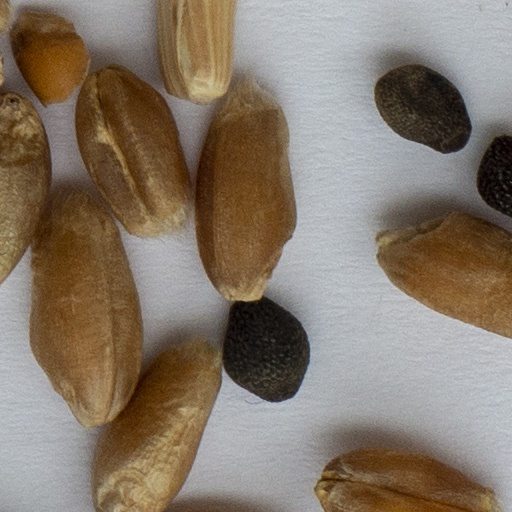Convolvulus-poly: (220, 293, 310, 408), (370, 61, 476, 156), (475, 132, 511, 221)
Peel-poly: (159, 0, 236, 101)
